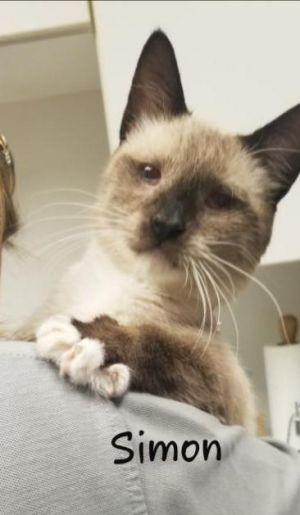siamese: (87, 26, 300, 306)
